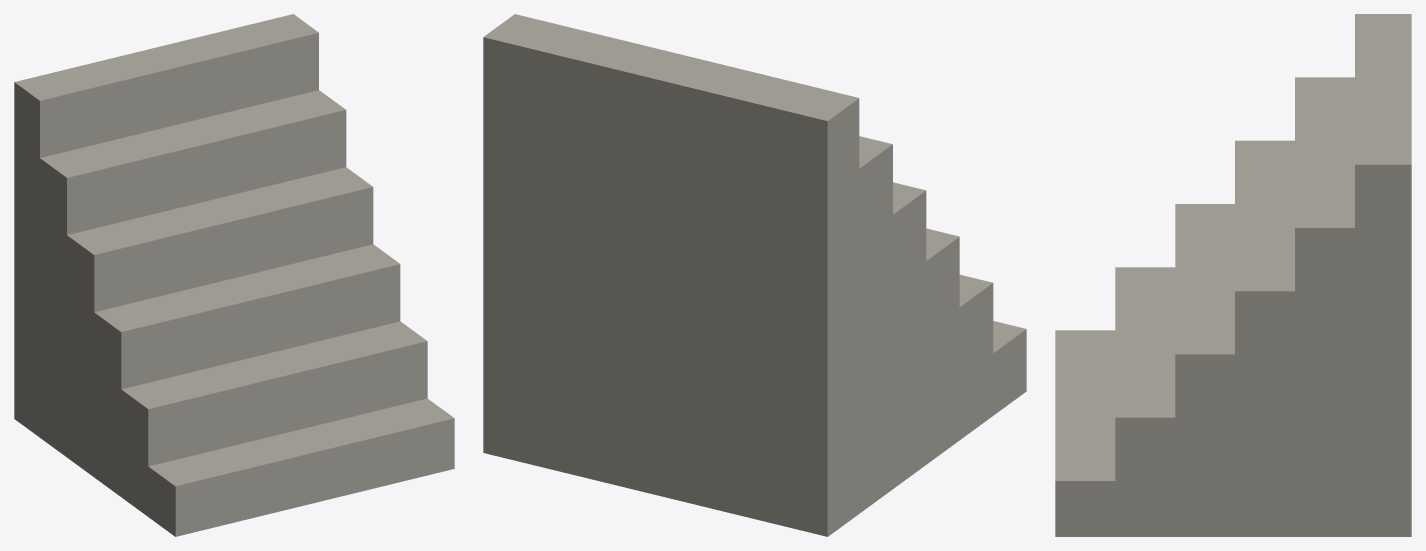
Rendered from Stair.fbx.
The picture shows the model from 3 angles, left to right: view 1: azimuth 30°, elevation 25°; view 2: azimuth 150°, elevation 25°; view 3: azimuth 270°, elevation 25°; orthographic projection. The views are drawn at different scales.
Parts seen in each view (by area): view 1: Cone.002; view 2: Cone.002; view 3: Cone.002.
Part boxes in pixels (x1=…): Cone.002: x1=14, y1=14, x2=454, y2=536; Cone.002: x1=483, y1=14, x2=1026, y2=536; Cone.002: x1=1055, y1=14, x2=1411, y2=536.
Bounding box in the file's own units: 78.74 × 90.8 × 78.74.
1 material, 1 textured.
